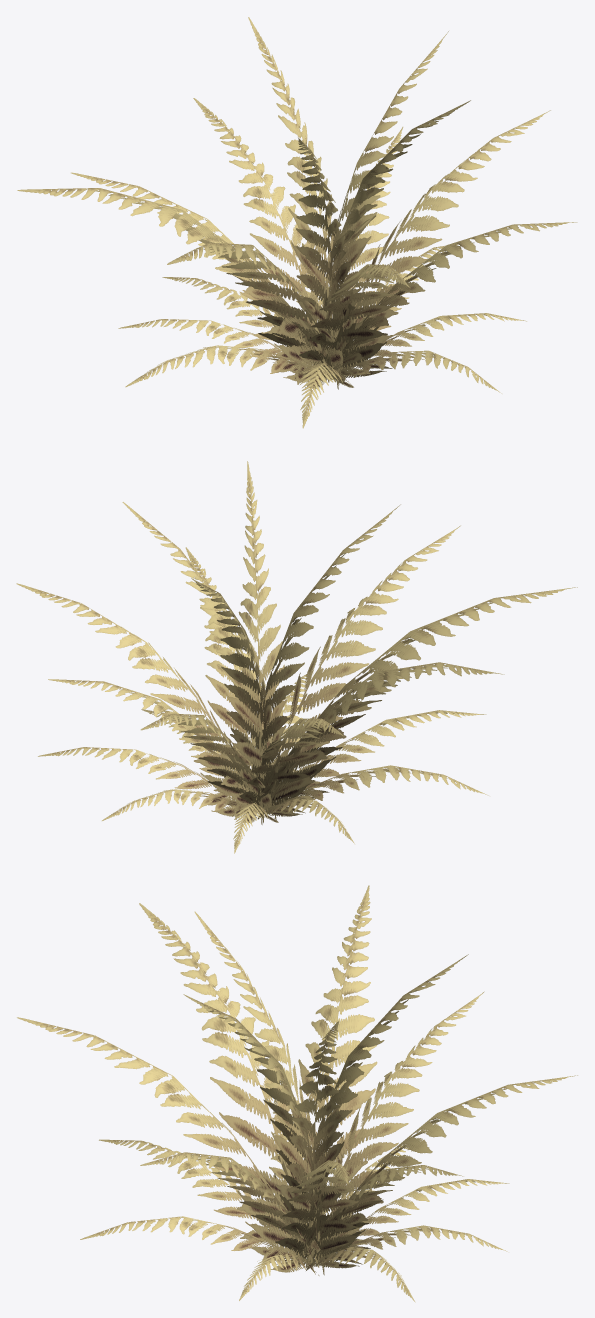
File: helecho_3_vcta.fbx
3 views of the same model, one above another, from view 1: azimuth 30°, elevation 25°; view 2: azimuth 150°, elevation 25°; view 3: azimuth 270°, elevation 25° (orthographic). The views are drawn at different scales.
Parts seen in each view (by area): view 1: helecho_3_vcta; view 2: helecho_3_vcta; view 3: helecho_3_vcta.
Boxes of the visible parts, x1,y1,x2,y2 form: helecho_3_vcta: (17,17,577,428); helecho_3_vcta: (16,461,577,853); helecho_3_vcta: (17,885,577,1302).
Size of the model in its own units: 214 by 122 by 196.
